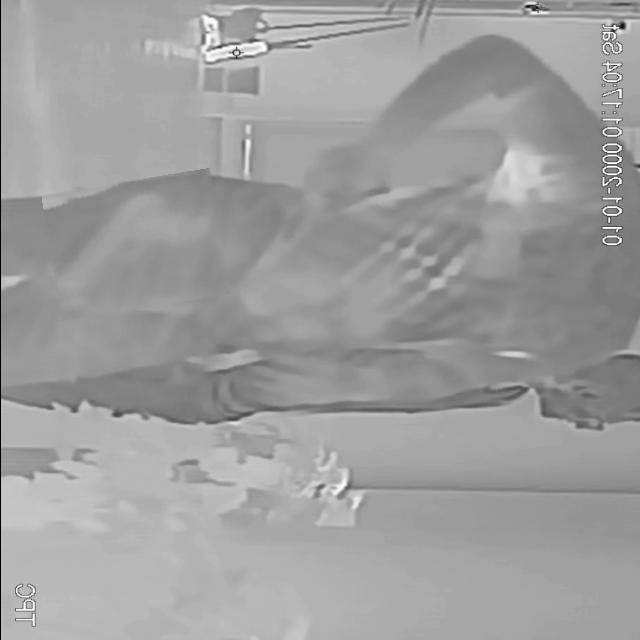Weapon: (45, 173, 224, 314)
